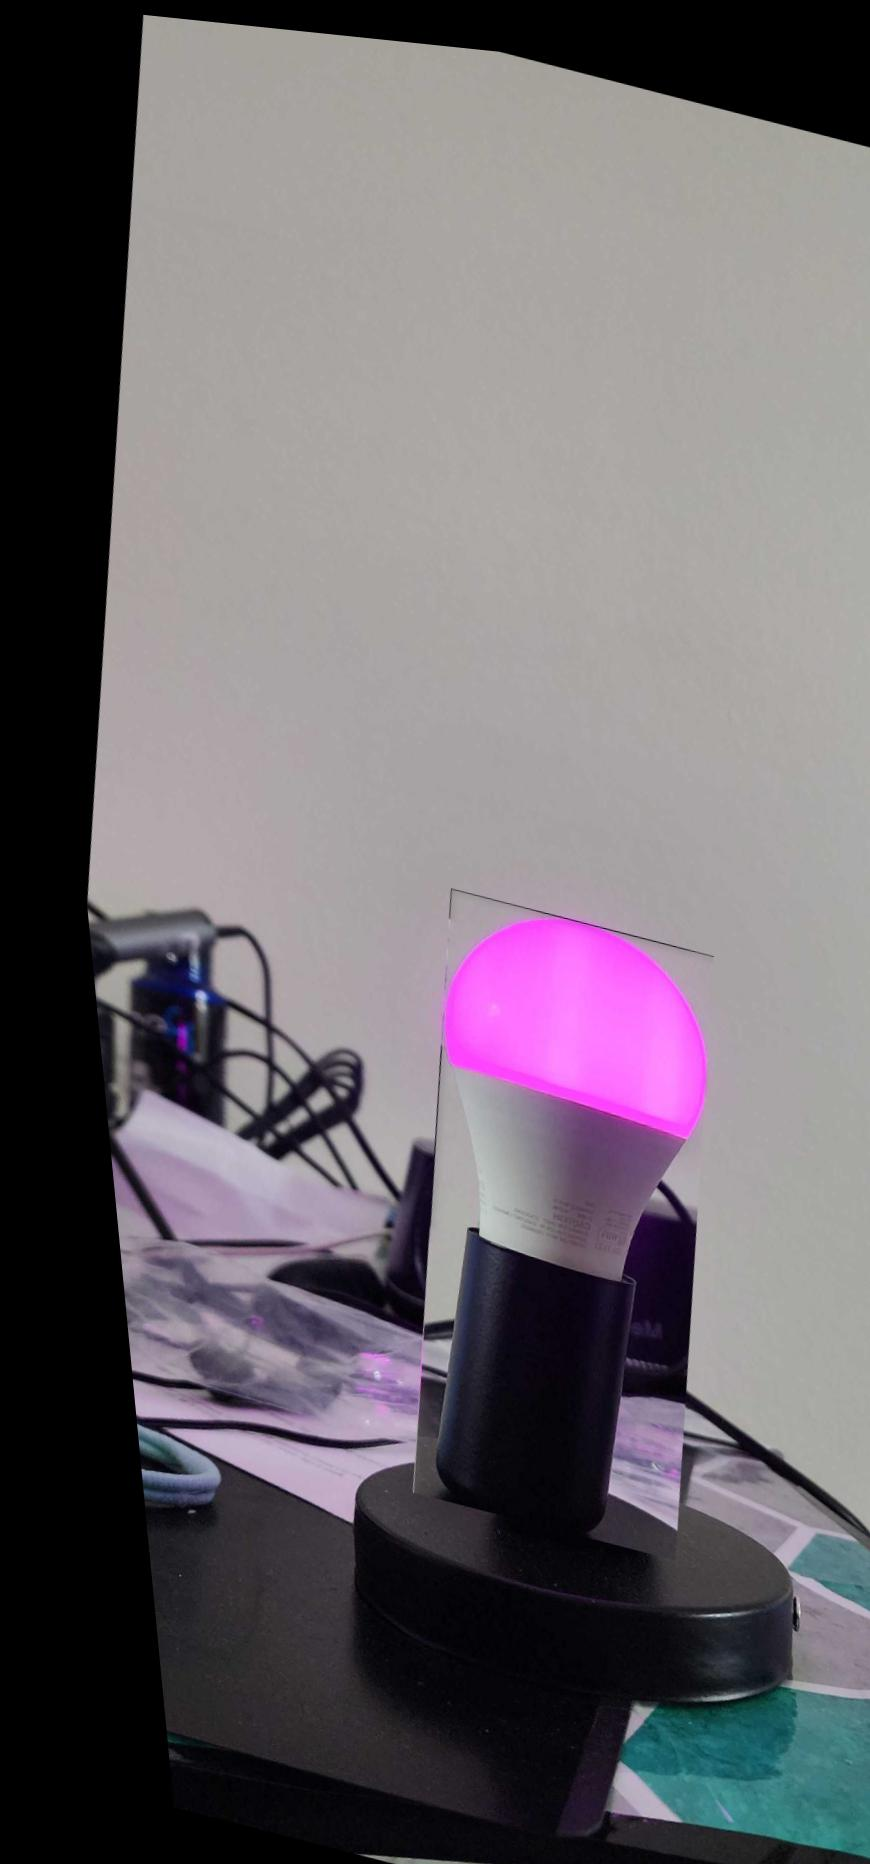TubeLight: (335, 870, 740, 1555)
